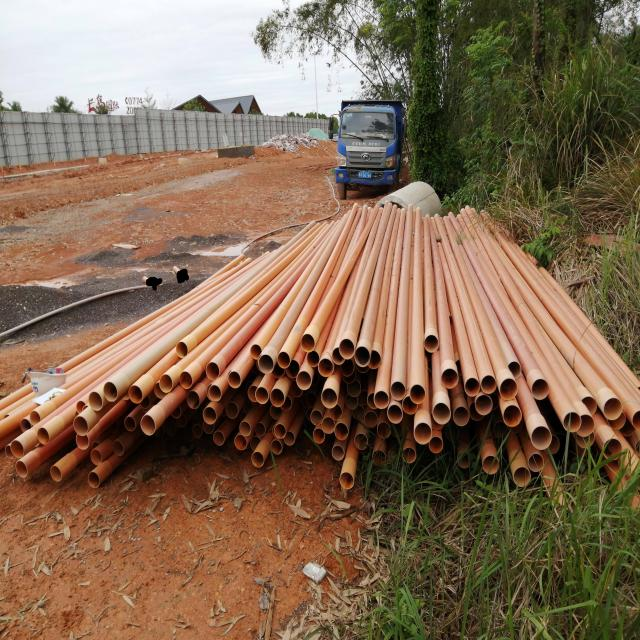pipe: (531, 424, 552, 450), (502, 404, 522, 427), (602, 397, 622, 420), (432, 401, 451, 425), (499, 377, 518, 401), (576, 413, 595, 437), (602, 438, 622, 460), (474, 394, 493, 416), (414, 422, 432, 445), (531, 378, 549, 401), (555, 506, 575, 526), (562, 411, 581, 432), (607, 409, 626, 430), (408, 383, 426, 404), (513, 466, 531, 487), (580, 396, 598, 417), (441, 367, 458, 389), (576, 428, 594, 448), (321, 387, 338, 408), (140, 414, 156, 436), (621, 415, 637, 437), (482, 454, 499, 474), (453, 406, 470, 426), (469, 402, 486, 422), (527, 452, 544, 472), (73, 415, 89, 436), (296, 370, 312, 391), (338, 338, 354, 359), (354, 346, 370, 367), (464, 376, 480, 396), (103, 381, 118, 402), (481, 374, 496, 395), (390, 381, 406, 400), (402, 395, 418, 414), (492, 421, 508, 440), (128, 384, 143, 404), (259, 354, 274, 374), (300, 333, 315, 353), (387, 404, 402, 424), (88, 391, 102, 412), (367, 349, 381, 370), (508, 359, 522, 380), (318, 359, 334, 377), (339, 471, 354, 490), (424, 334, 439, 353), (14, 460, 28, 480), (36, 426, 50, 446), (255, 386, 269, 406), (286, 358, 300, 378), (340, 357, 354, 377), (270, 388, 284, 408), (546, 434, 560, 454), (428, 436, 444, 453), (205, 362, 220, 380), (202, 406, 217, 424), (374, 390, 389, 408), (159, 374, 173, 393), (186, 390, 200, 409), (457, 451, 472, 468), (10, 440, 24, 458), (76, 432, 90, 450), (227, 370, 241, 388), (271, 361, 285, 379), (306, 350, 320, 368), (332, 347, 346, 365), (290, 380, 304, 398), (225, 401, 239, 419), (322, 416, 336, 434), (335, 422, 349, 440), (328, 403, 342, 420), (354, 433, 368, 450), (344, 393, 358, 410), (347, 380, 361, 397), (377, 422, 391, 439), (372, 450, 386, 467), (364, 411, 378, 428), (208, 384, 221, 402), (247, 385, 260, 403), (277, 351, 290, 369), (366, 392, 379, 410), (508, 419, 523, 434), (18, 416, 32, 432), (234, 434, 248, 450), (402, 447, 416, 463), (29, 410, 42, 427), (49, 465, 62, 482), (87, 471, 100, 488), (305, 392, 318, 409), (269, 404, 283, 419), (342, 369, 356, 384), (175, 342, 188, 358), (212, 430, 225, 446), (251, 451, 264, 467), (310, 409, 323, 425), (631, 406, 640, 429), (112, 439, 124, 456), (154, 382, 166, 399), (312, 427, 324, 444), (631, 464, 640, 486), (331, 445, 344, 460), (90, 449, 102, 465), (124, 416, 136, 432), (250, 344, 262, 360), (250, 435, 262, 451), (270, 439, 282, 455), (274, 422, 286, 438), (283, 430, 295, 446), (352, 405, 364, 421), (454, 357, 464, 376), (281, 394, 292, 411), (4, 442, 14, 460), (138, 394, 150, 409), (254, 421, 266, 436), (202, 419, 214, 434), (239, 421, 251, 436), (170, 404, 181, 420), (359, 390, 370, 406), (633, 439, 640, 460), (192, 424, 202, 438), (76, 399, 85, 414), (178, 415, 188, 428), (306, 407, 314, 422), (243, 402, 253, 414), (1, 413, 10, 424), (91, 442, 100, 451), (73, 410, 79, 418), (141, 406, 149, 412)
